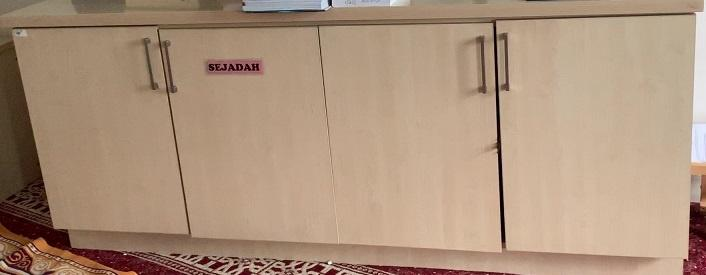cabinet_door: (506, 22, 696, 251), (332, 26, 506, 249), (170, 26, 330, 238), (27, 28, 168, 232)
handle: (162, 37, 181, 97), (141, 36, 160, 91), (499, 28, 514, 96), (475, 31, 490, 97)
